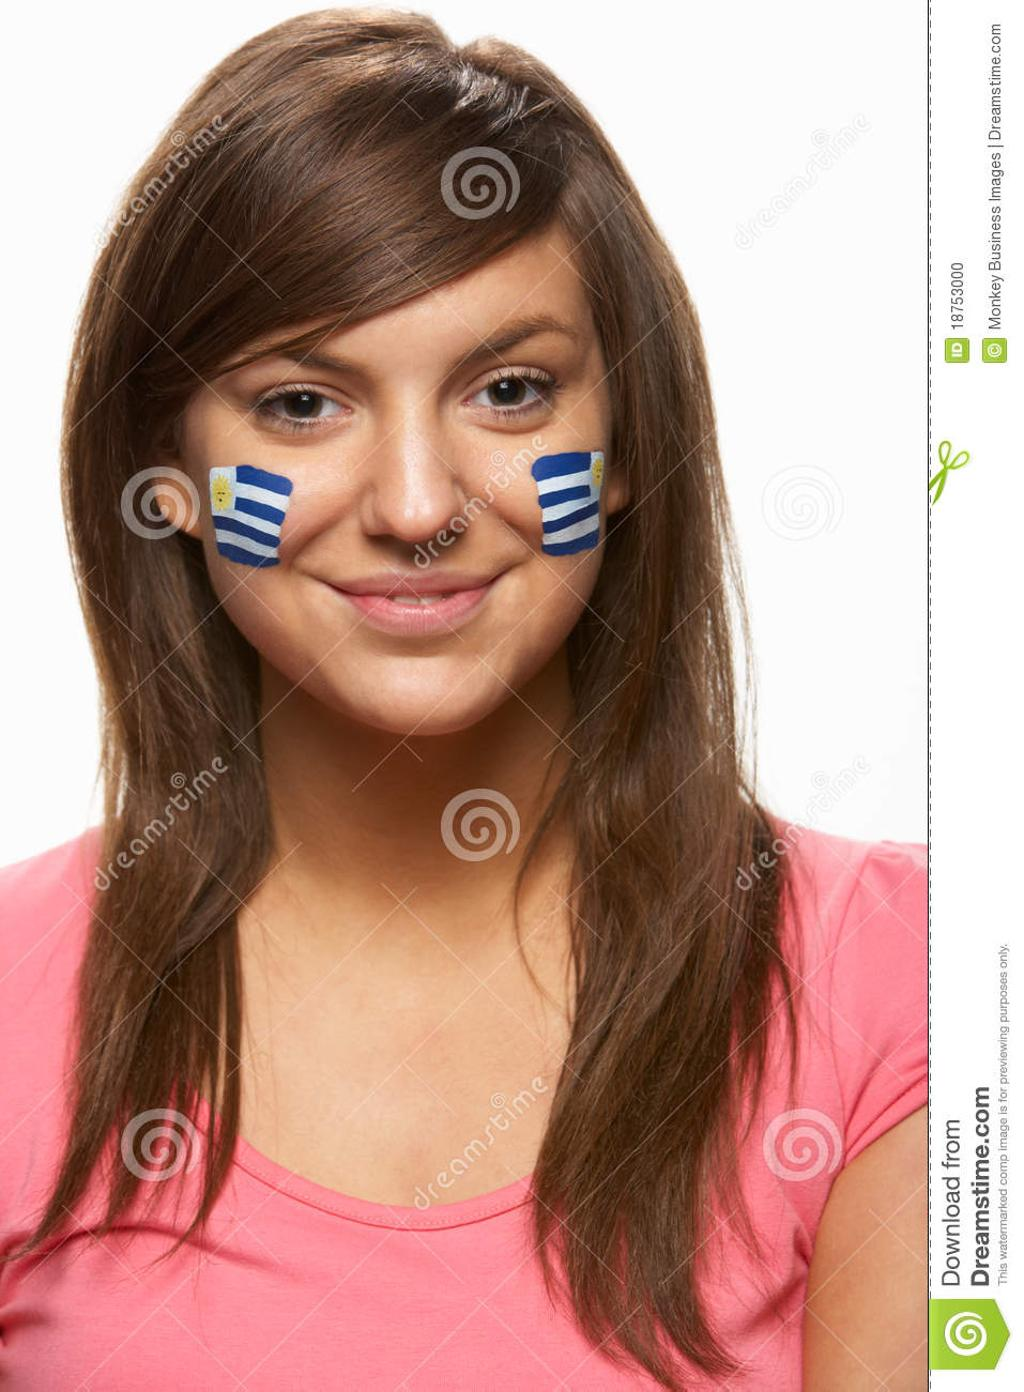face: (204, 250, 603, 725)
